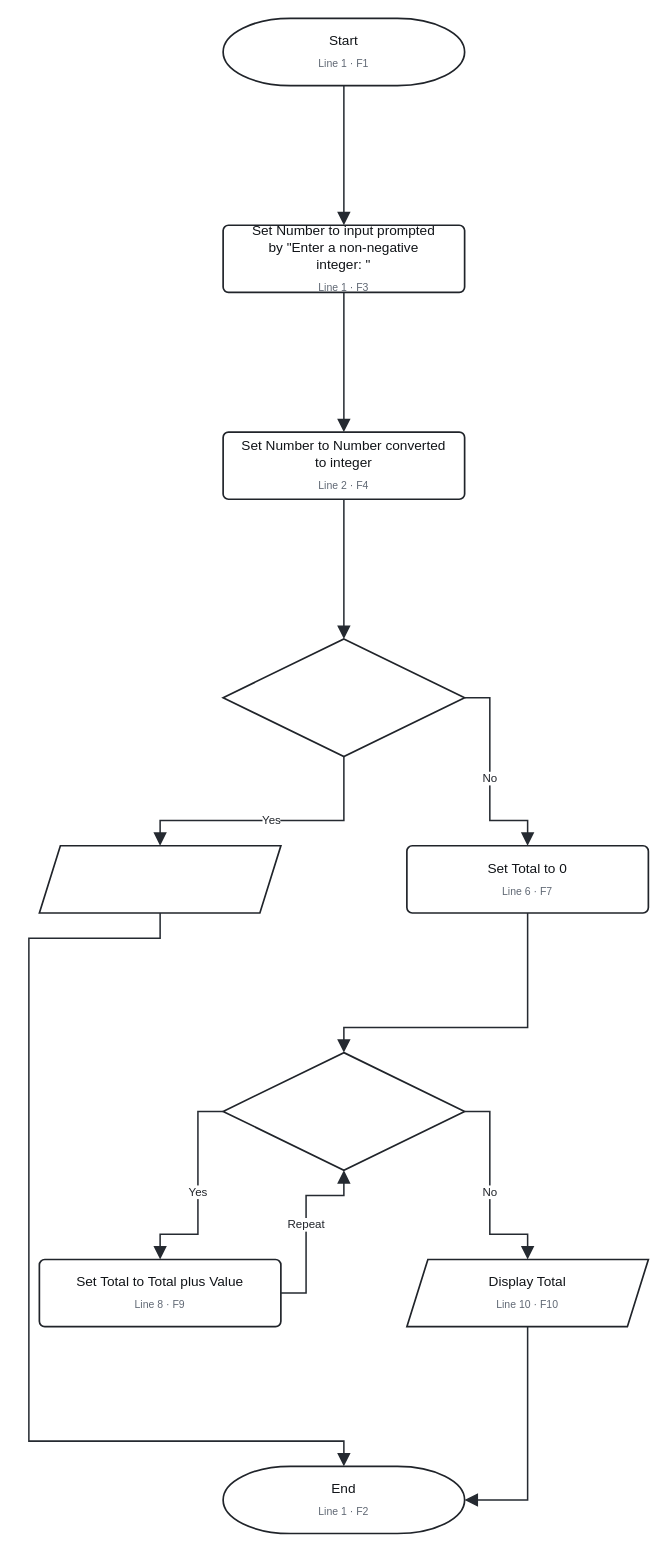
Image size: 668x1553. Some labels were removed from this diagram. Each missing label, with the box of its shape:
Display 0 Line 4 · F6: (38, 844, 281, 913)
For Value from 1 to Number plus 1 Line 7 · F8: (222, 1051, 465, 1171)
Number is less than 1? Line 3 · F5: (222, 638, 465, 757)
